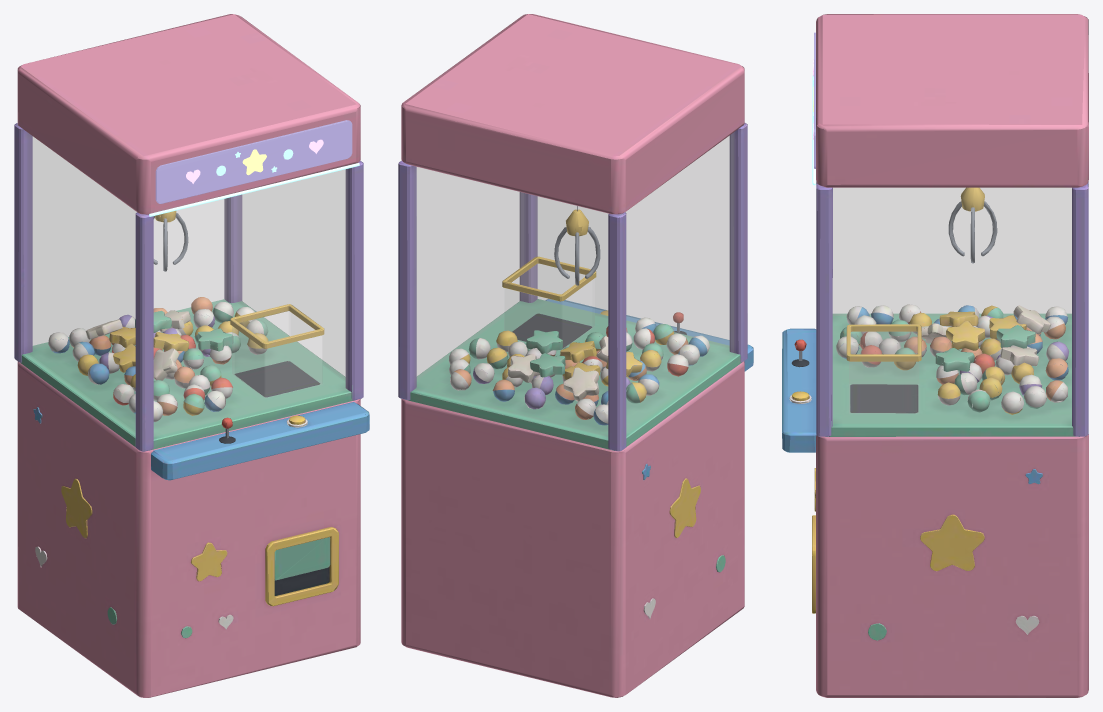
File: maquina_garras.glb
3 renders of one model, left to right at view 1: azimuth 30°, elevation 25°; view 2: azimuth 150°, elevation 25°; view 3: azimuth 270°, elevation 25°, orthographic. The views are drawn at different scales.
Parts seen in each view (by area): view 1: claw-machine_body; view 2: claw-machine_body; view 3: claw-machine_body.
Part boxes in pixels (x1,y1,x2,y2): claw-machine_body: (14, 14, 369, 697); claw-machine_body: (398, 14, 753, 697); claw-machine_body: (782, 14, 1088, 697).
Bounding box in the file's own units: 0.8065 × 1.85 × 0.8989.
Materials: 12 (1 with a texture image).
